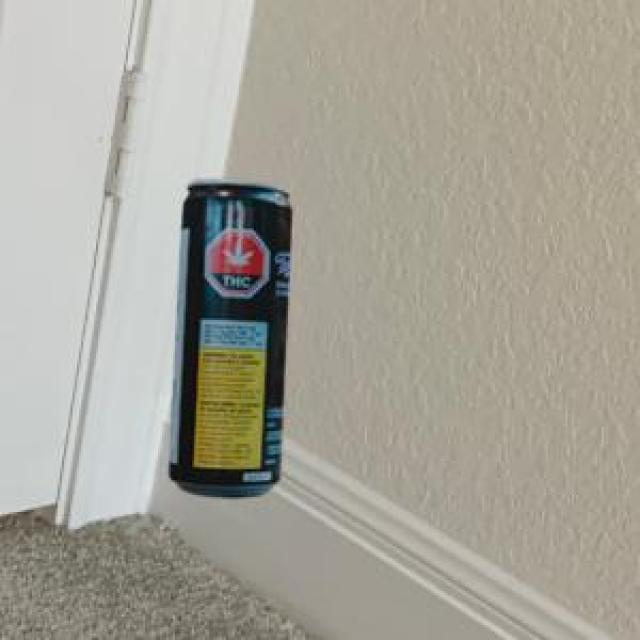Can: (167, 176, 289, 494)
